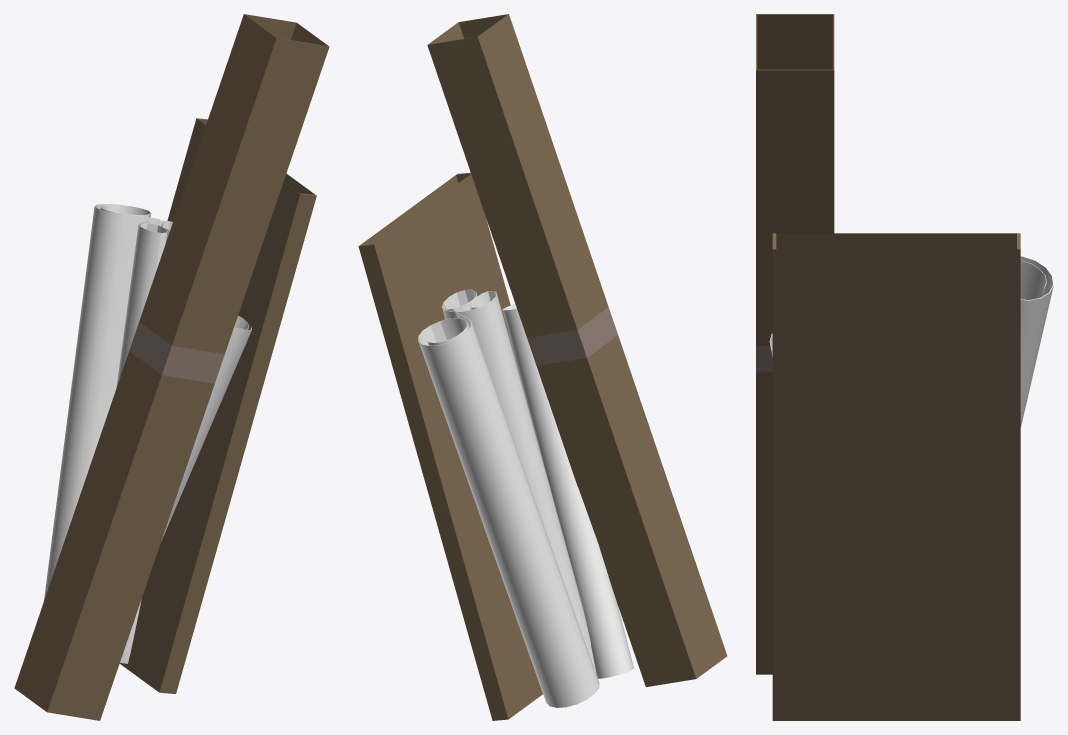
The model's file is Cardboard_paper_2.glb.
3 renders of one model, left to right at view 1: azimuth 30°, elevation 25°; view 2: azimuth 150°, elevation 25°; view 3: azimuth 270°, elevation 25°, orthographic. The views are drawn at different scales.
Visible parts, largest first — view 1: carboard, carboard.001, paper.006, paper.005, paper.007; view 2: carboard, carboard.001, paper.006, paper.007, paper.005; view 3: carboard.001, carboard, paper.006.
Part boxes in pixels (x1,y1,x2,y2): carboard: [14, 14, 329, 720]; carboard.001: [119, 118, 316, 693]; paper.006: [44, 204, 160, 600]; paper.005: [116, 220, 172, 663]; paper.007: [161, 315, 251, 541]; carboard: [427, 14, 727, 687]; carboard.001: [358, 172, 542, 720]; paper.006: [418, 309, 599, 707]; paper.007: [502, 304, 633, 678]; paper.005: [442, 289, 596, 673]; carboard.001: [772, 233, 1020, 720]; carboard: [756, 14, 834, 674]; paper.006: [1020, 256, 1053, 427].
Size of the model in its own units: 3.28 by 7.1 by 2.51.
